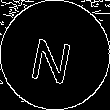N_N: (30, 26, 80, 84)
